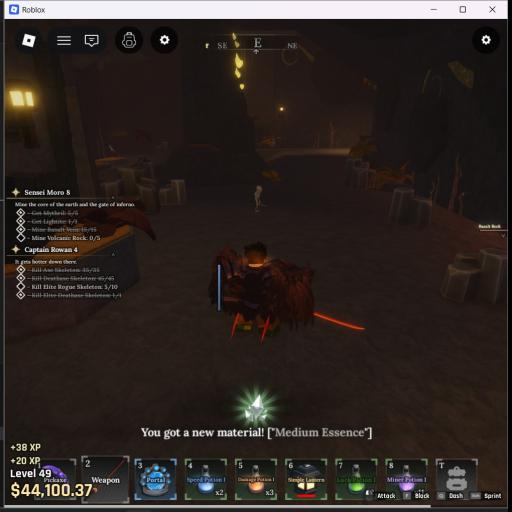player: (209, 242, 314, 337)
rock: (101, 155, 186, 214), (441, 249, 507, 305), (388, 187, 432, 226), (344, 158, 372, 189), (156, 142, 169, 154)
